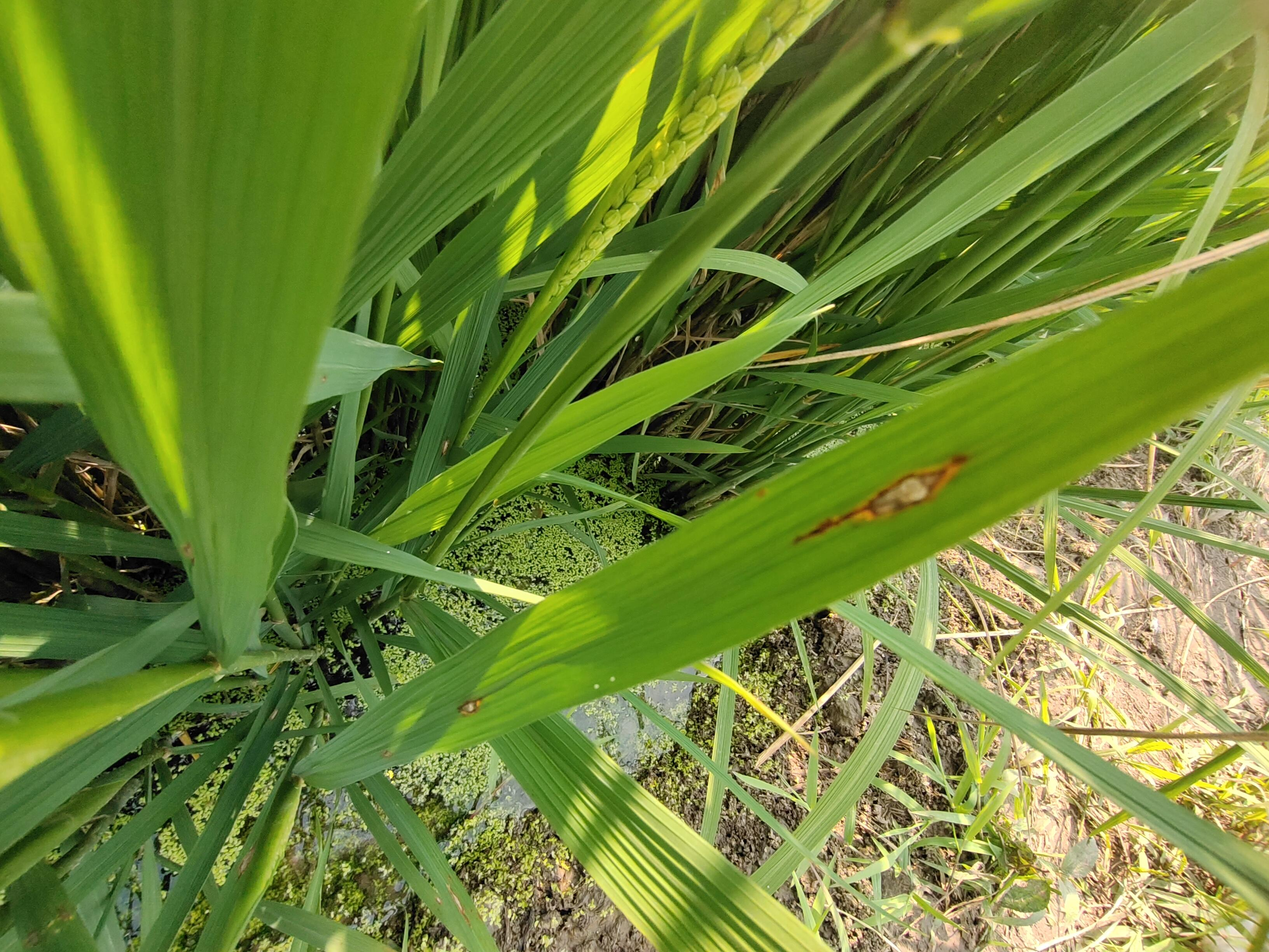LEAF: (290, 242, 1269, 789)
LEAF BLAST: (795, 457, 967, 541), (458, 698, 482, 716)
